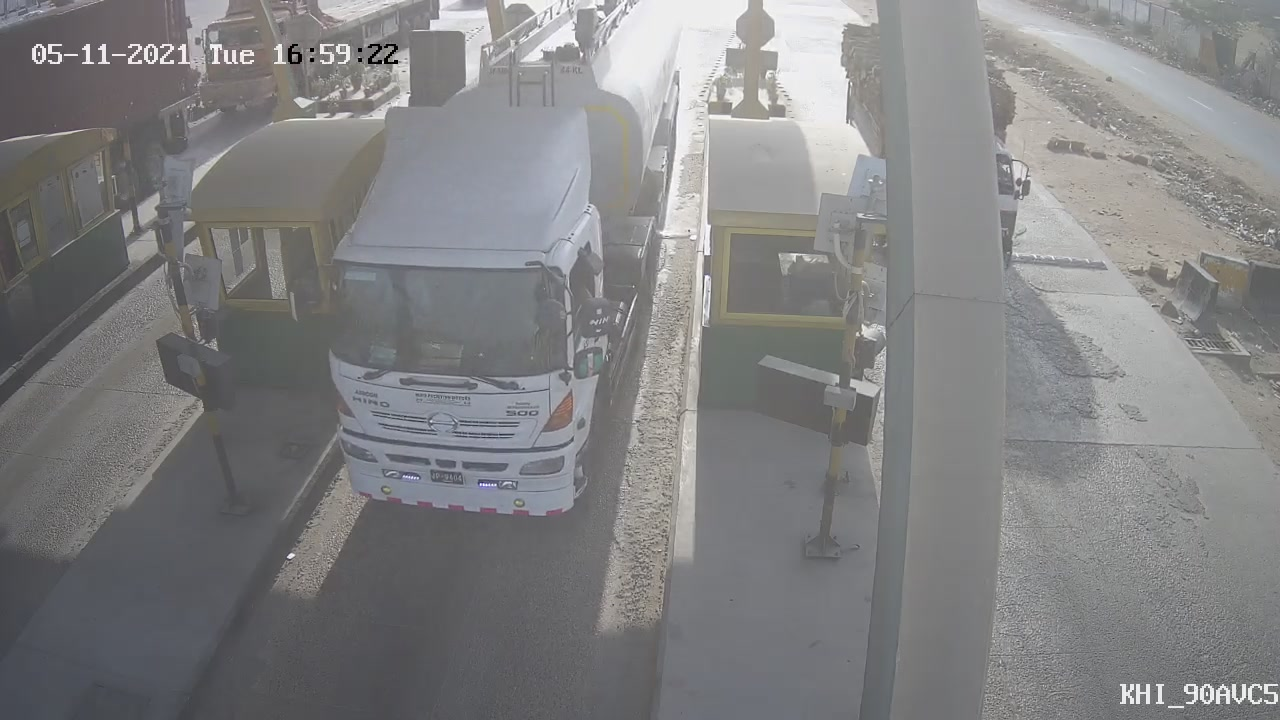F6: (279, 3, 708, 540)
